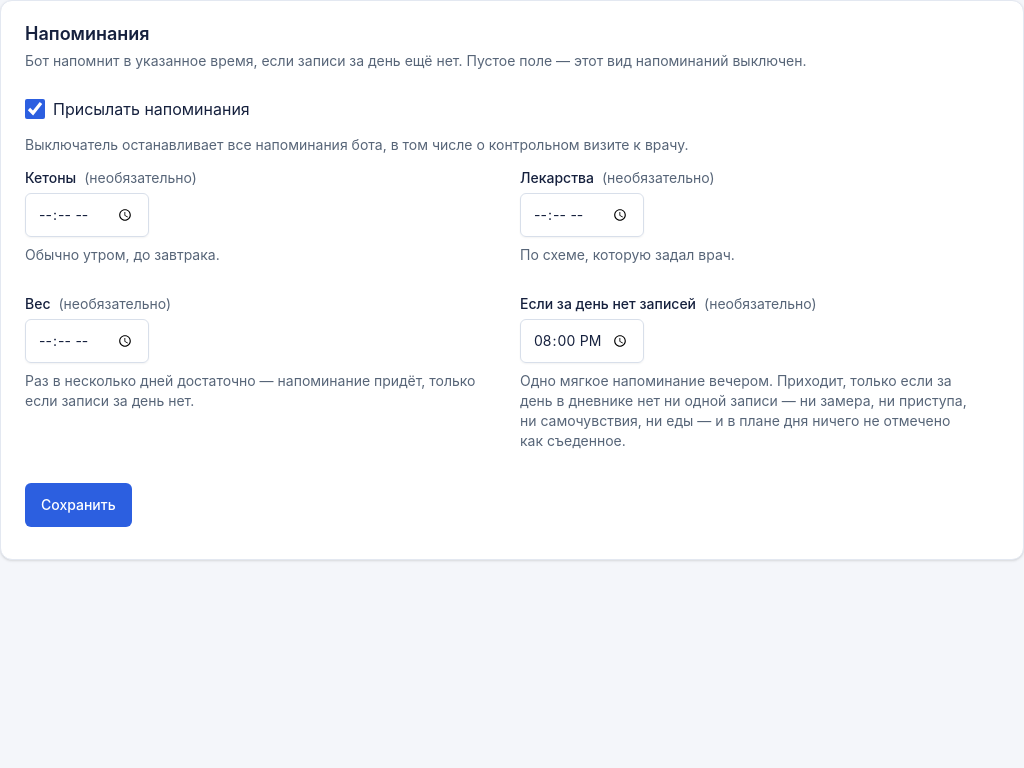
Test: настройки напоминаний › выключатель гасит все поля разом
This screenshot has width=1024, height=768.
Click the checkbox labelled "Присылать напоминания": [35, 109] box [25,99,45,119]
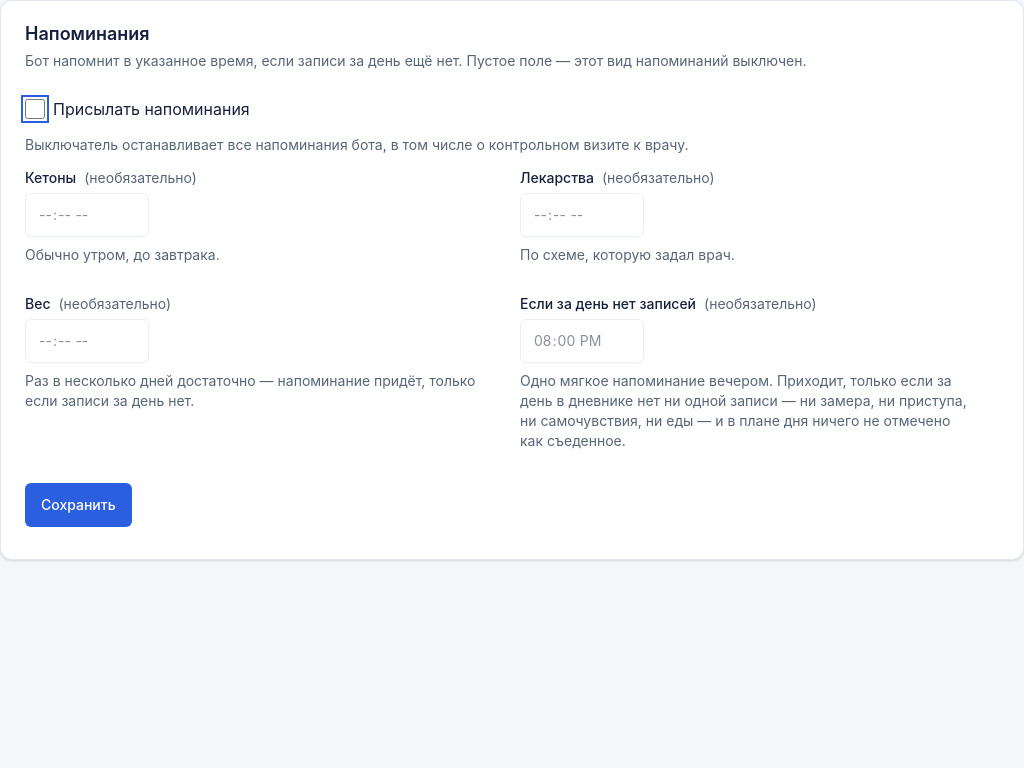
expect the time field labelled "Если за день нет записей (необязательно)" is disabled: met, box [520,319,644,363]
